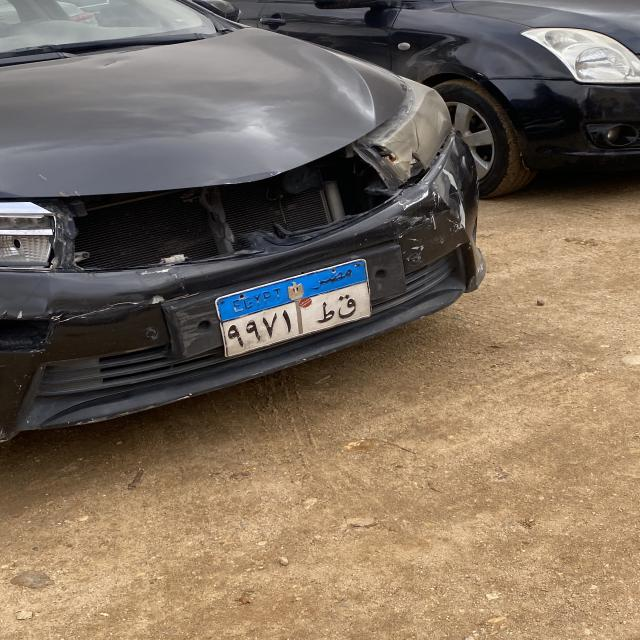License Plate: (217, 259, 371, 357)
